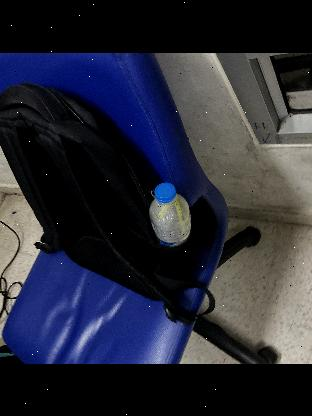Plastic Bottle: (146, 182, 191, 249)
